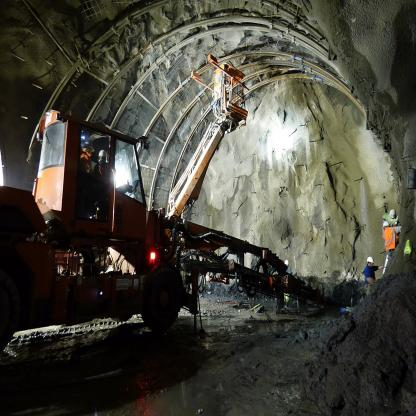person: (376, 198, 408, 263), (357, 251, 385, 305)
